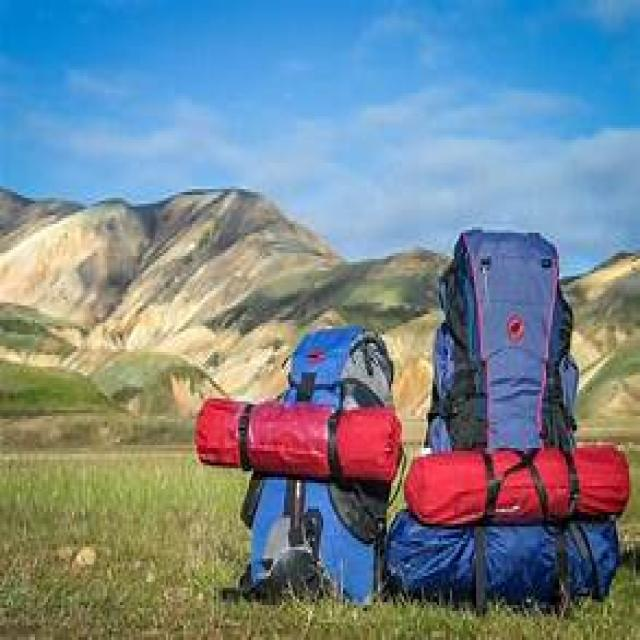backpack: (427, 228, 580, 455)
